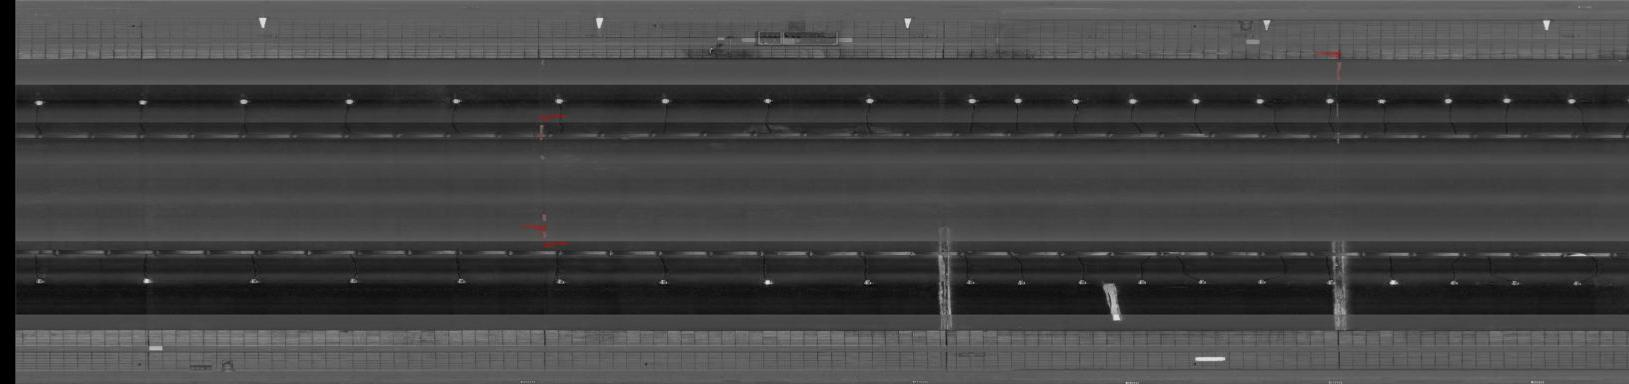light: (756, 273, 779, 289), (855, 94, 881, 108), (244, 273, 265, 289), (451, 273, 473, 287), (549, 94, 571, 108), (30, 272, 50, 287), (653, 274, 674, 289), (1191, 274, 1211, 289), (137, 272, 156, 287), (759, 93, 779, 108), (339, 95, 359, 109), (656, 94, 676, 108), (1569, 273, 1586, 289), (344, 273, 364, 286), (447, 94, 466, 108), (856, 276, 877, 289), (1384, 274, 1403, 287), (130, 97, 152, 108), (234, 95, 253, 108), (551, 276, 570, 289), (1249, 94, 1269, 107), (1561, 93, 1579, 107), (29, 97, 48, 109), (1438, 94, 1457, 107), (1122, 94, 1141, 107), (1496, 94, 1516, 106), (1011, 276, 1029, 289), (1445, 275, 1463, 287), (1008, 95, 1026, 107), (1132, 276, 1151, 287), (1075, 275, 1091, 289), (961, 276, 978, 289), (1066, 94, 1083, 107), (1252, 276, 1269, 289), (962, 94, 981, 105), (1507, 276, 1523, 289), (1320, 93, 1337, 105), (1186, 95, 1203, 107), (1374, 95, 1390, 107), (1321, 276, 1336, 287), (1623, 274, 1629, 291), (1622, 94, 1629, 107)
